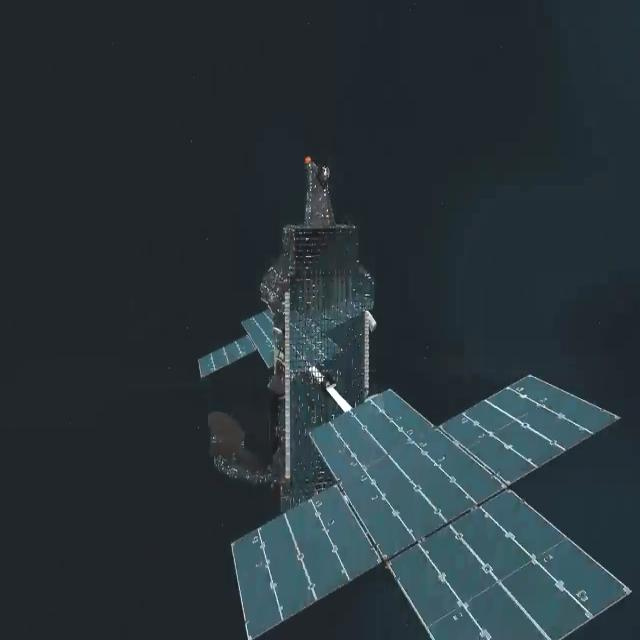medium_debris: (177, 139, 640, 640)
